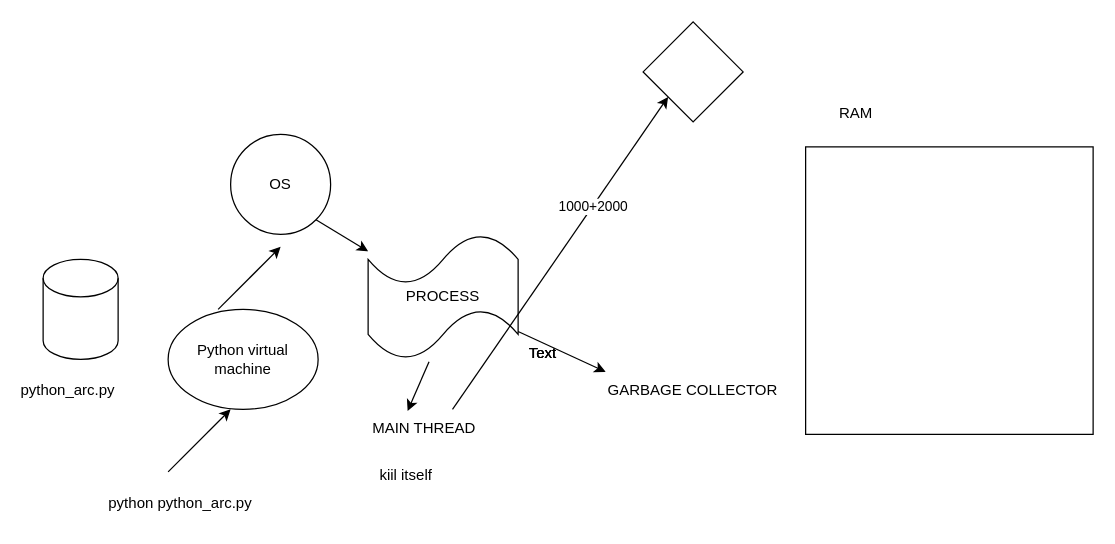
Some shapes in this 1115 by 544 pixel diagram are drawn without their labels. The shapes that lost their labels are listed below. From the top down, each one's centre as x and y in pixels, then its label:
At point 692,71: "processor".
At point 80,308: "HDD".
